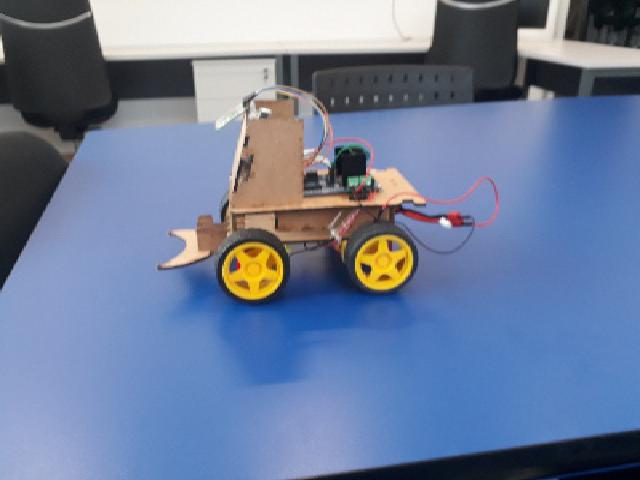Robot: (157, 95, 427, 306)
